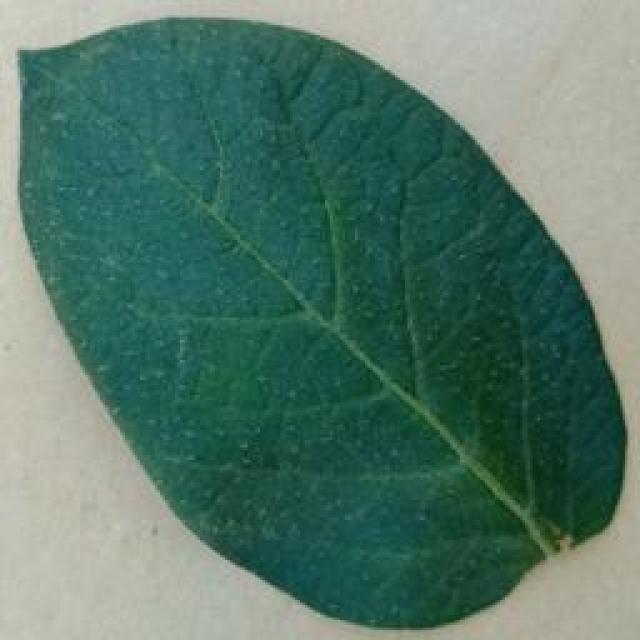Potato_Healthy: (15, 20, 613, 628)
